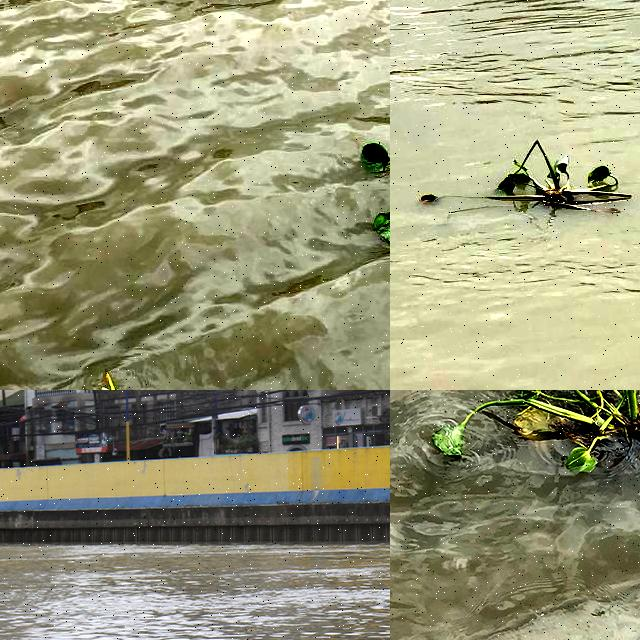water-hyacinth: (436, 392, 640, 499), (415, 136, 639, 217)
